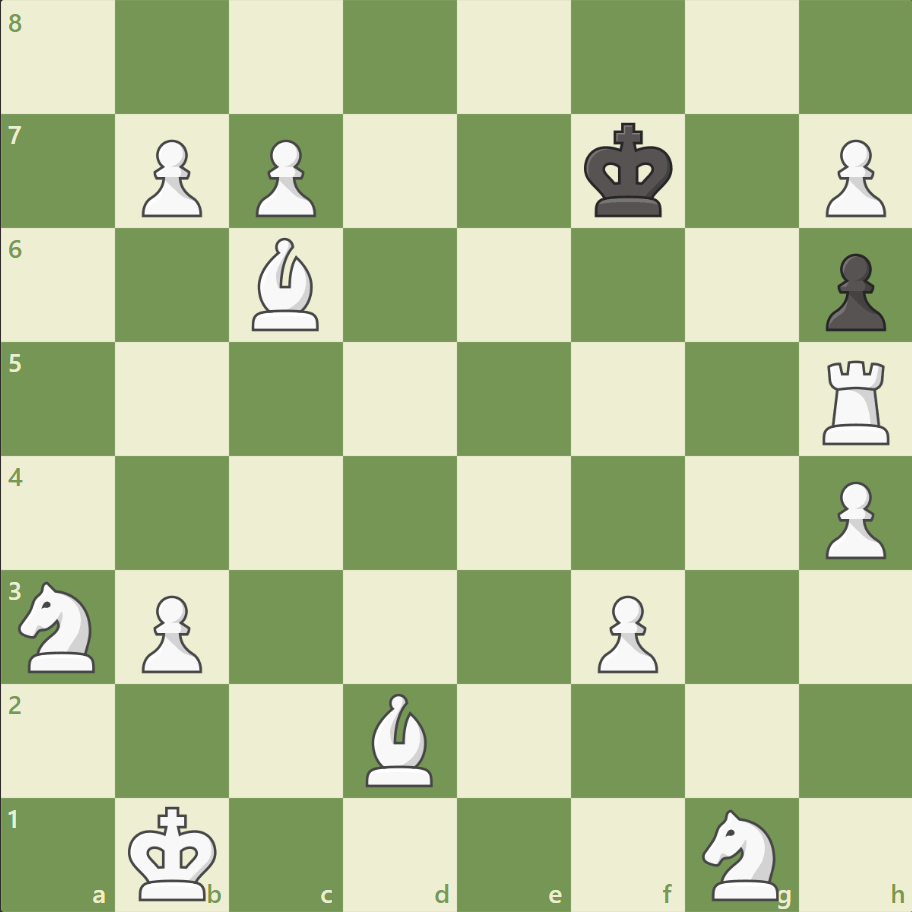B: (244, 233, 328, 336), (358, 687, 442, 790)
K: (124, 798, 224, 906)
N: (11, 575, 108, 677), (692, 802, 789, 904)
P: (133, 132, 208, 223), (247, 132, 322, 223), (133, 586, 208, 677), (815, 132, 889, 223), (815, 473, 889, 564), (588, 586, 662, 677)
R: (814, 352, 897, 449)
k: (579, 117, 679, 225)
p: (815, 246, 889, 337)
